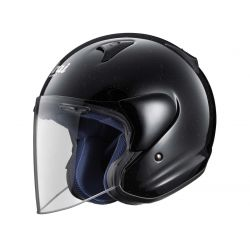with_helmet: (37, 33, 218, 206)
